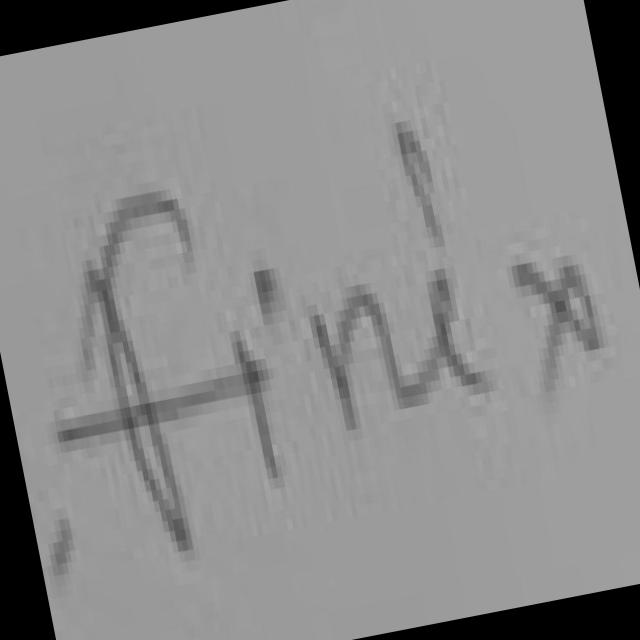F: (63, 192, 251, 547)
i: (424, 269, 488, 395), (239, 340, 282, 478), (399, 122, 444, 246), (260, 270, 277, 292)
n: (316, 293, 431, 429)
x: (517, 263, 604, 386)
